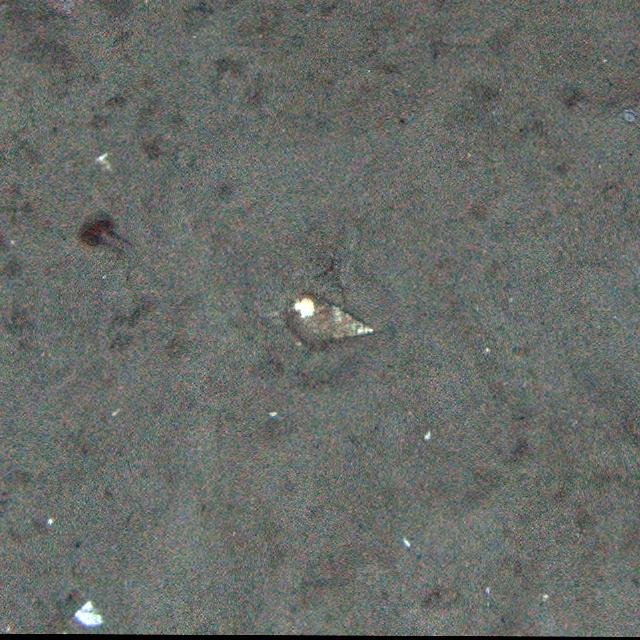whelk: (276, 291, 378, 347)
